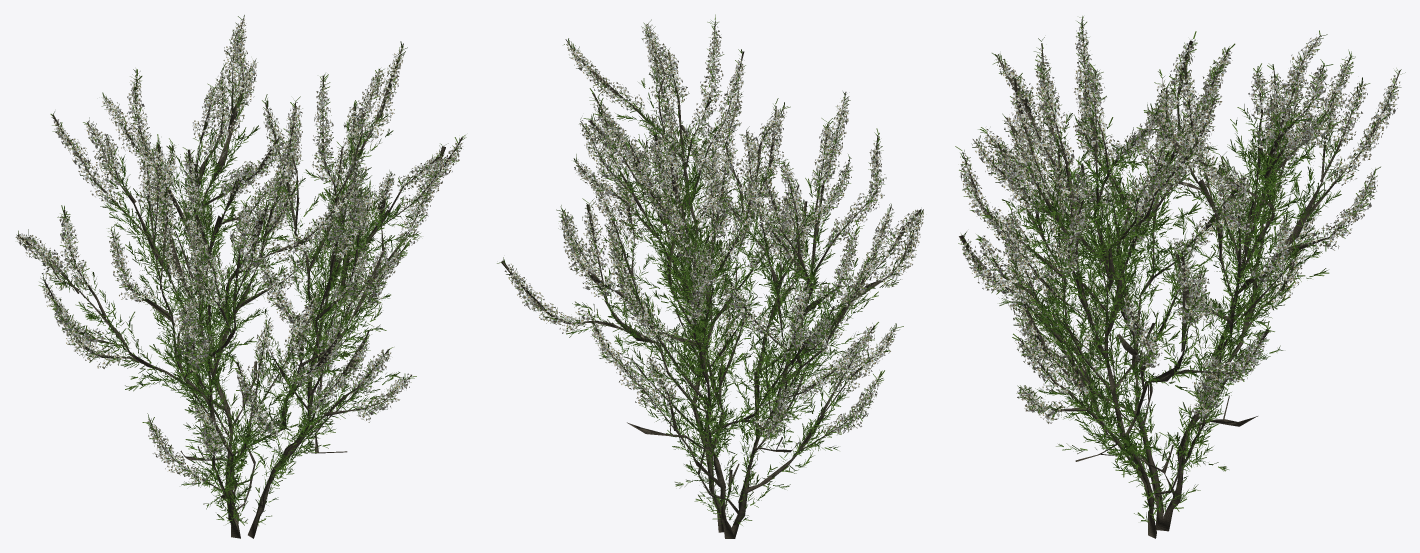
File: tree_heather.dae
3 views of the same model, side by side, from view 1: azimuth 30°, elevation 25°; view 2: azimuth 150°, elevation 25°; view 3: azimuth 270°, elevation 25° (orthographic). The views are drawn at different scales.
Parts seen in each view (by area): view 1: Tree_Heather_1.002; view 2: Tree_Heather_1.002; view 3: Tree_Heather_1.002.
Part boxes in pixels (x1,y1,x2,y2): Tree_Heather_1.002: (15,15,466,538); Tree_Heather_1.002: (497,14,923,538); Tree_Heather_1.002: (955,16,1405,538).
Size of the model in its own units: 1.08 by 1.08 by 1.44.
2 materials, 2 textured.
